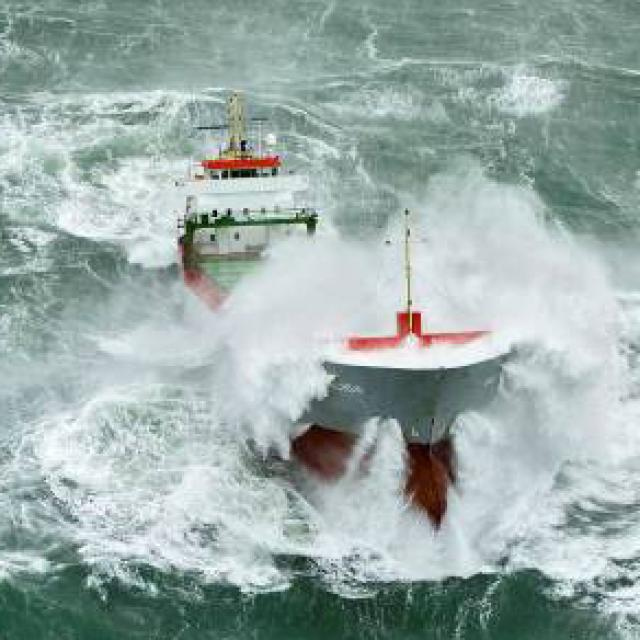cargoship: (176, 91, 508, 523)
